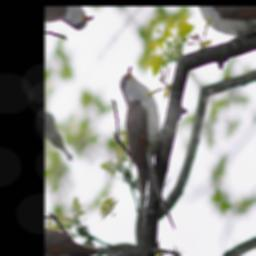Cuckoo: (84, 64, 218, 237)
